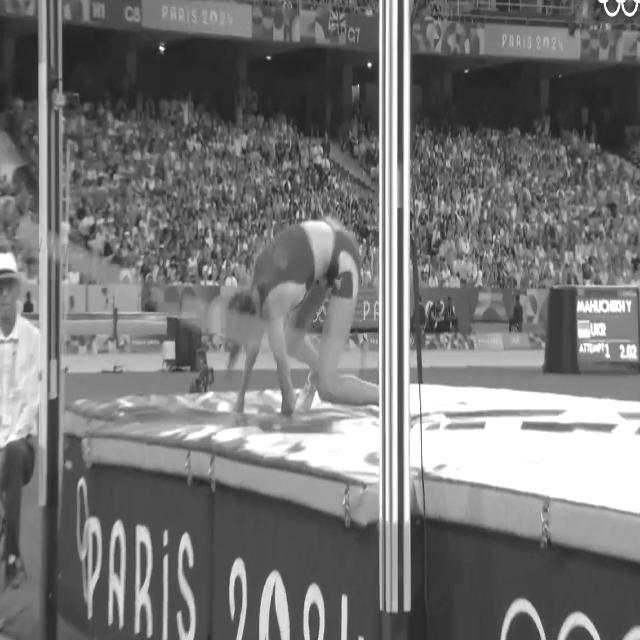land: (223, 216, 378, 420)
